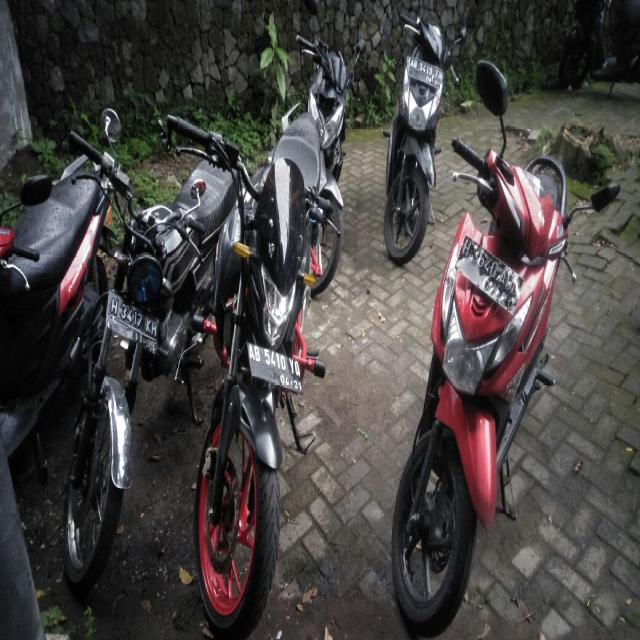plate: (454, 233, 526, 317), (104, 288, 158, 357), (245, 337, 304, 395), (407, 56, 442, 92)
